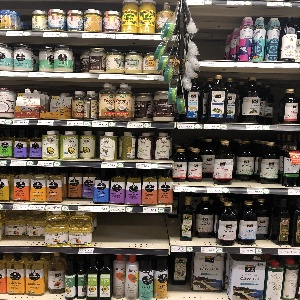void: (95, 208, 175, 246), (196, 2, 233, 61)
